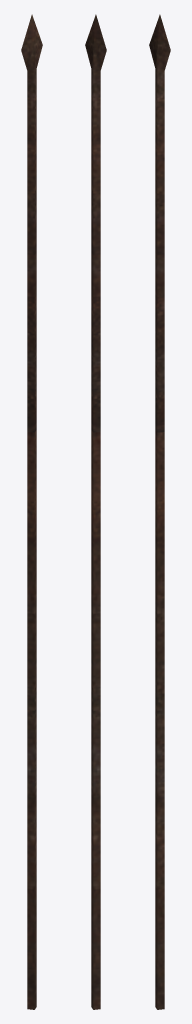
The model's file is Barending.fbx.
The picture shows the model from 3 angles, left to right: view 1: azimuth 30°, elevation 25°; view 2: azimuth 150°, elevation 25°; view 3: azimuth 330°, elevation 25°; orthographic projection.
Parts seen in each view (by area): view 1: Mesh Object; view 2: Mesh Object; view 3: Mesh Object.
Boxes of the visible parts, x1,y1,x2,y2 form: Mesh Object: (21, 14, 42, 1009); Mesh Object: (85, 14, 106, 1009); Mesh Object: (149, 14, 170, 1009).
Size of the model in its own units: 0.063 by 2.75 by 0.0264.
